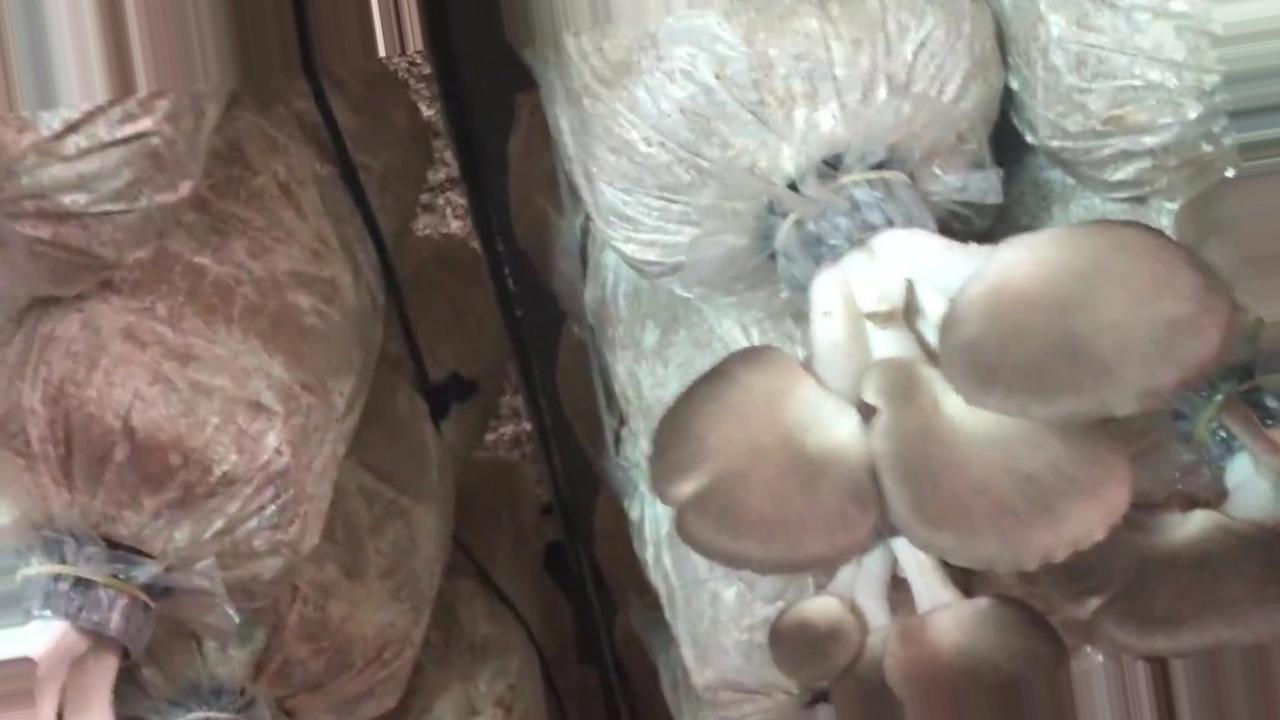nam: (650, 180, 1225, 571), (770, 534, 1068, 720)
